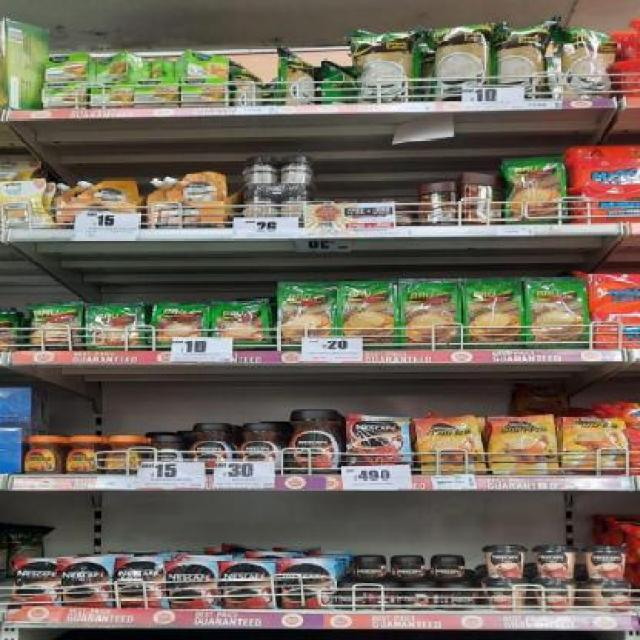Coffee: (489, 416, 557, 475), (417, 418, 486, 474), (561, 418, 627, 474), (286, 409, 342, 473), (350, 416, 411, 469), (279, 559, 331, 607), (239, 424, 287, 472), (61, 560, 111, 606), (116, 560, 166, 606), (222, 562, 270, 608), (192, 424, 236, 473), (12, 559, 58, 605), (169, 562, 217, 606), (143, 436, 185, 472), (24, 436, 63, 474), (104, 437, 140, 475), (65, 437, 101, 475), (442, 586, 478, 608), (403, 586, 436, 610), (430, 557, 464, 579), (335, 585, 366, 609), (355, 557, 385, 581), (392, 558, 424, 580), (368, 586, 397, 609)
